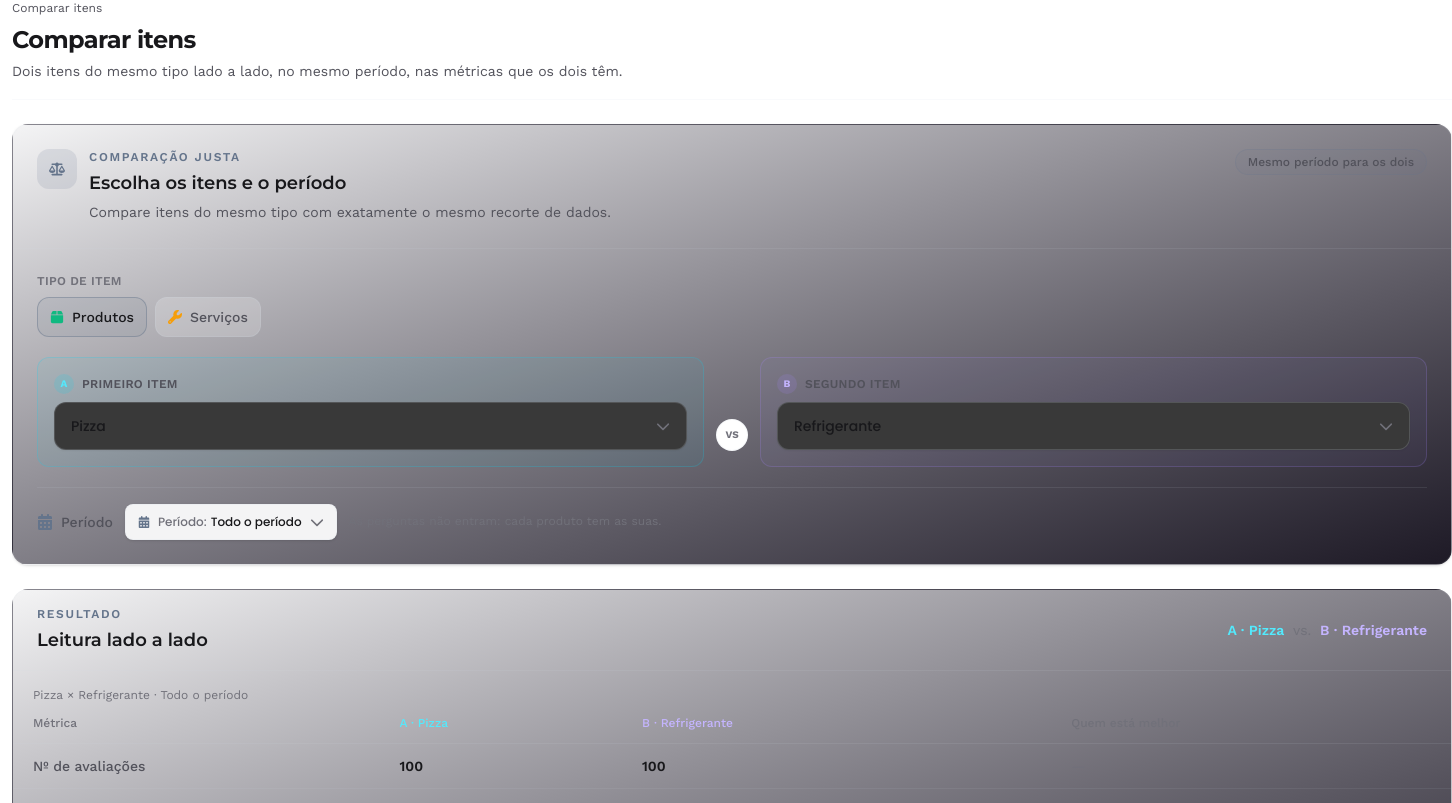
Test: [Unidade] Comparar itens › troca de tipo e diz quando a diferença é incerta
Click the button "Serviços" at (208, 316), box [155, 296, 261, 336]
(page scrolled)
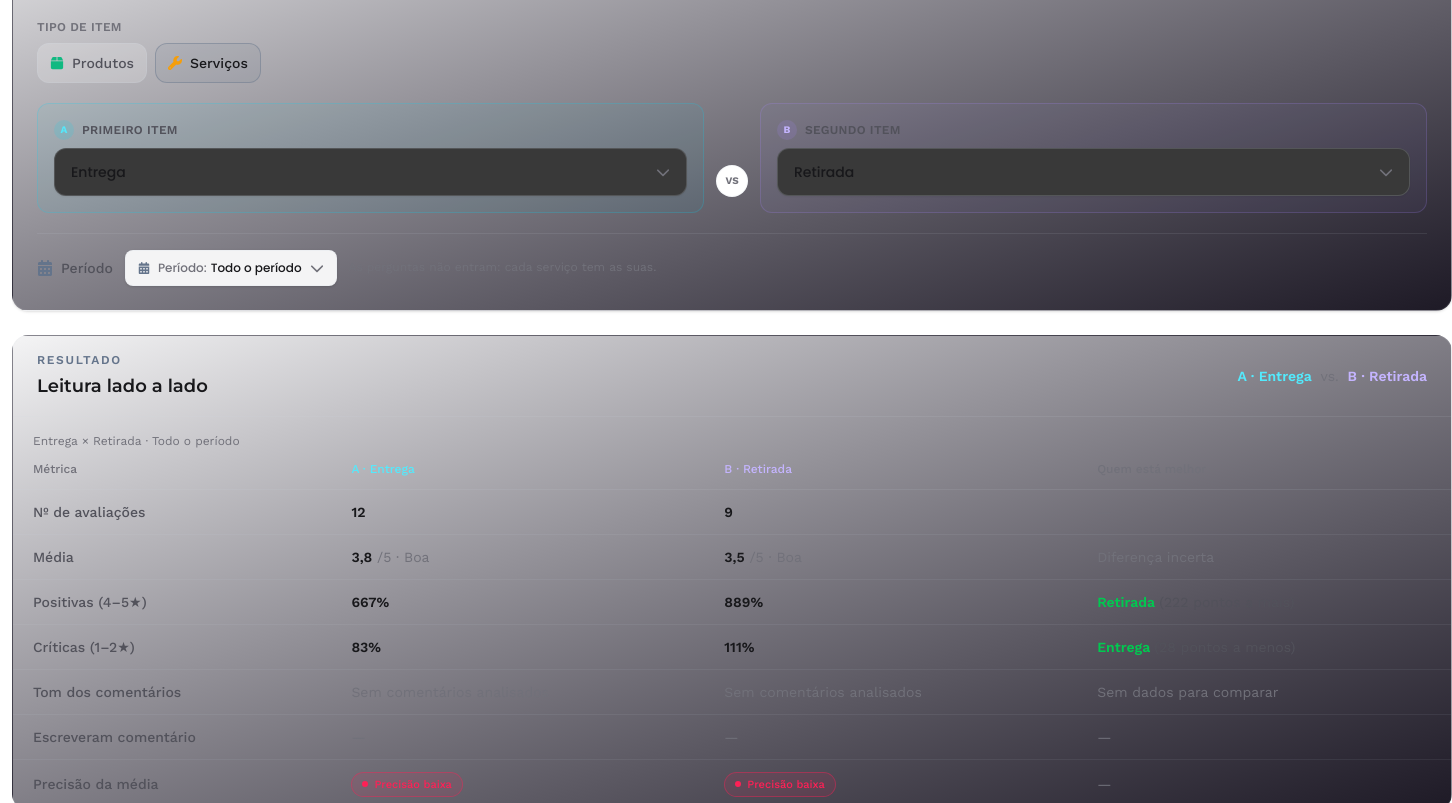
Result: the column heading "A · Entrega" is shown at [331, 448, 704, 489]
